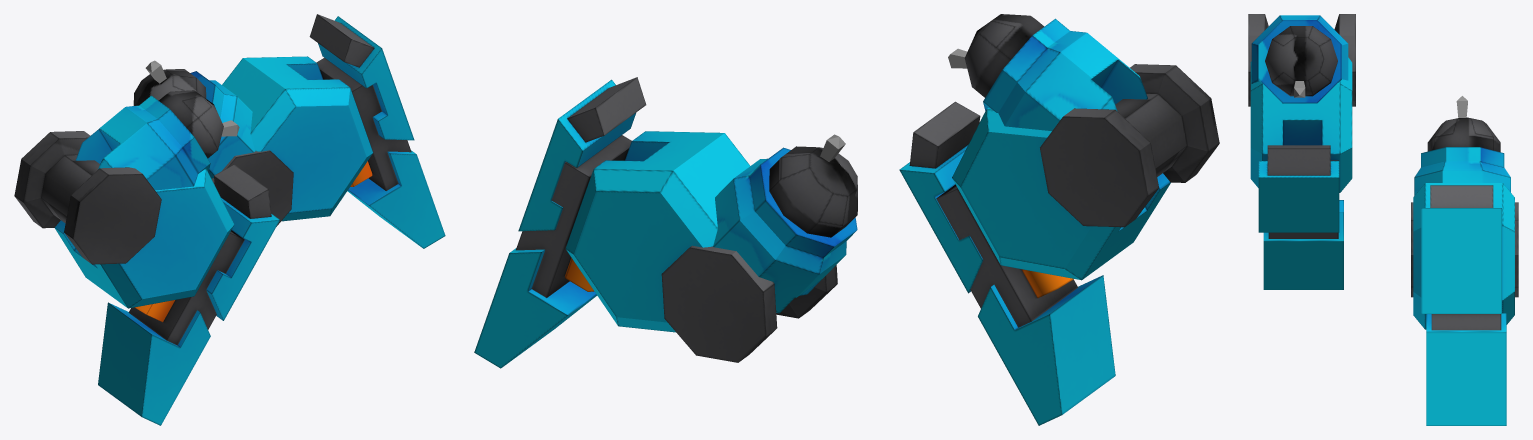
The model's file is Bottom_Running11.obj.
3 views of the same model, side by side, from view 1: azimuth 30°, elevation 25°; view 2: azimuth 150°, elevation 25°; view 3: azimuth 270°, elevation 25° (orthographic). The views are drawn at different scales.
Visible parts, largest first — view 1: Object013, Object010, Object014, Object011, Object012, Object009; view 2: Object013, Object010, Object014, Object011, Object009, Object012; view 3: Object011, Object014, Object013, Object012, Object009, Object010.
Part boxes in pixels (<box>): Object013: <box>14,131,234,308</box>; Object010: <box>212,56,373,226</box>; Object014: <box>98,164,279,425</box>; Object011: <box>309,14,445,248</box>; Object012: <box>75,90,223,190</box>; Object009: <box>133,69,254,178</box>; Object013: <box>952,64,1219,280</box>; Object010: <box>565,131,837,362</box>; Object014: <box>899,101,1115,425</box>; Object011: <box>474,77,646,368</box>; Object009: <box>713,146,857,313</box>; Object012: <box>964,14,1147,130</box>; Object011: <box>1421,185,1506,425</box>; Object014: <box>1258,145,1343,289</box>; Object013: <box>1248,14,1355,192</box>; Object012: <box>1251,15,1348,103</box>; Object009: <box>1414,117,1510,195</box>; Object010: <box>1411,183,1518,329</box>.
Size of the model in its own units: 174 by 108 by 94.84.
